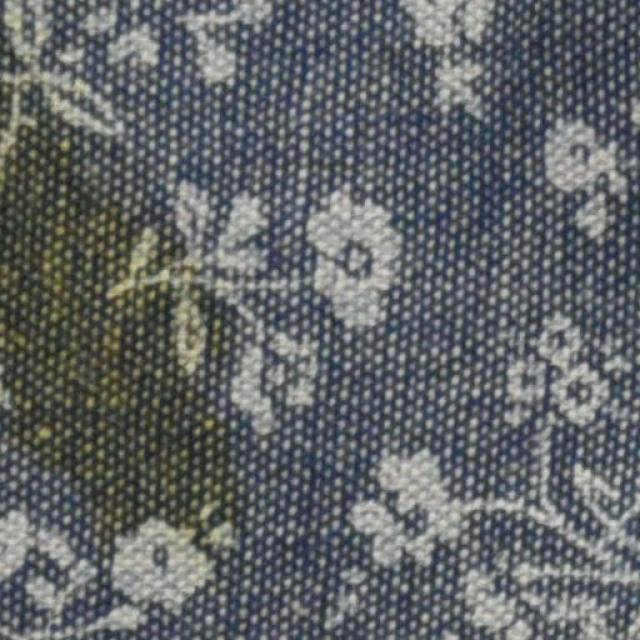Stain: (0, 41, 250, 557)
